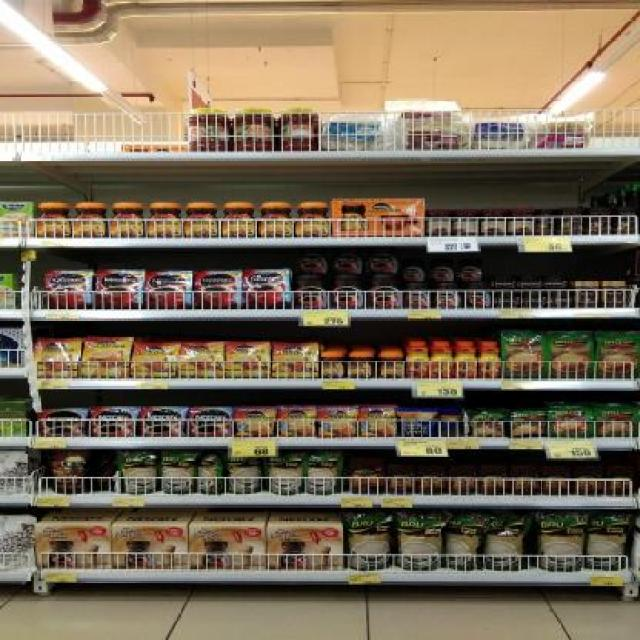Coffee: (43, 268, 95, 310), (82, 336, 129, 378), (243, 270, 292, 308), (97, 270, 143, 310), (146, 270, 192, 310), (35, 337, 79, 378), (195, 270, 242, 308), (272, 343, 319, 379), (226, 342, 271, 378), (132, 343, 177, 379), (180, 342, 222, 378), (90, 406, 138, 437), (139, 406, 187, 436), (38, 409, 88, 436), (36, 202, 72, 238), (220, 202, 256, 238), (190, 406, 233, 436), (235, 406, 276, 437), (110, 202, 145, 238), (147, 202, 182, 238), (293, 276, 330, 310), (296, 202, 330, 238), (74, 202, 108, 238), (184, 202, 218, 238), (259, 202, 293, 238), (319, 406, 358, 437), (360, 406, 398, 437), (278, 406, 316, 437), (332, 276, 366, 310), (368, 274, 400, 308), (294, 248, 328, 274), (403, 282, 434, 310), (331, 248, 364, 274), (455, 341, 477, 379), (367, 247, 399, 273), (432, 341, 453, 379), (406, 342, 428, 378), (480, 342, 502, 378), (435, 282, 462, 308), (465, 282, 492, 308), (348, 352, 375, 378), (575, 280, 600, 308), (377, 352, 403, 378), (320, 351, 345, 378), (602, 280, 626, 308), (459, 260, 486, 282), (401, 260, 428, 282), (431, 260, 457, 282), (495, 292, 520, 308), (524, 292, 548, 308), (544, 276, 570, 290), (550, 292, 572, 308), (492, 276, 517, 290), (520, 276, 542, 290)
